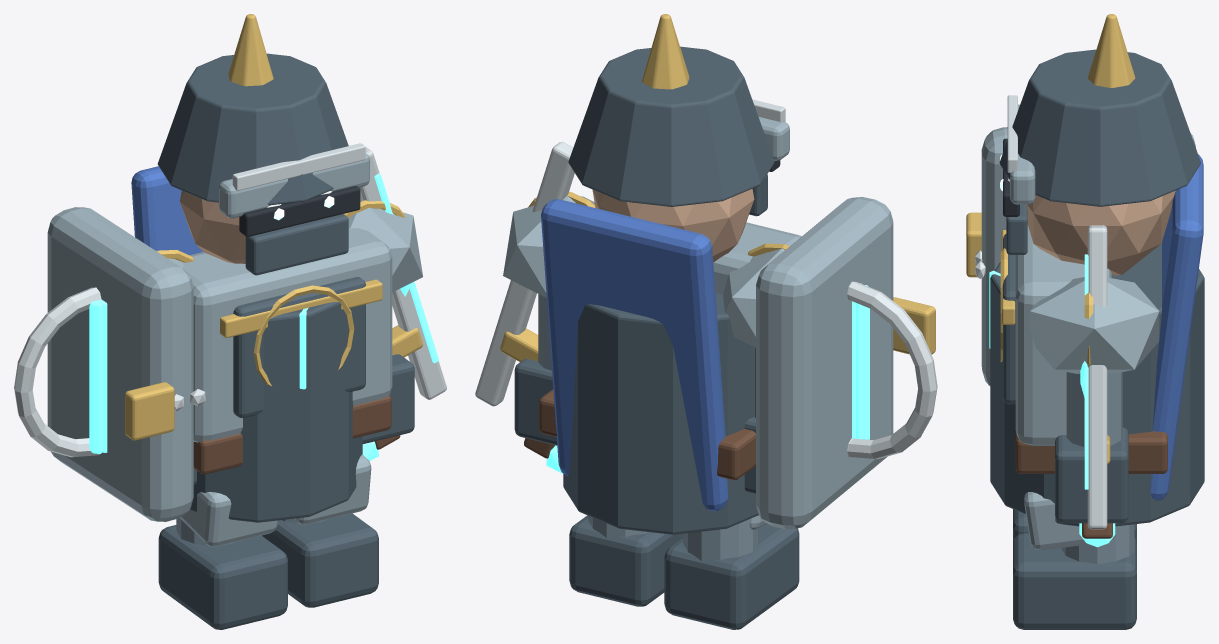
Rendered from ironclad.glb.
The picture shows the model from 3 angles, left to right: view 1: azimuth 30°, elevation 25°; view 2: azimuth 150°, elevation 25°; view 3: azimuth 270°, elevation 25°; orthographic projection. The views are drawn at different scales.
Visible parts, largest first — view 1: ShieldCore, Torso, Helmet, Breastplate, Boot_-0.19, Boot_0.19, ChestInset, ShieldRim, JawGuard, Cape, Pauldron_1, Belt (+17 smaller); view 2: ShieldCore, Torso, Cape, Helmet, Boot_-0.19, Boot_0.19, ShieldRim, SwordBlade, Head, Pauldron_1, Pauldron_-1, Gauntlet_1 (+10 smaller); view 3: Helmet, Torso, Boot_0.19, Pauldron_1, Cape, Breastplate, Head, SwordBlade, Gauntlet_1, ShieldCore, Belt, Arm_1 (+14 smaller).
Part boxes in pixels (bbox=[...]): ShieldCore: bbox=[47, 207, 193, 521]; Torso: bbox=[190, 302, 362, 522]; Helmet: bbox=[157, 53, 348, 205]; Breastplate: bbox=[183, 228, 392, 442]; Boot_-0.19: bbox=[158, 525, 287, 629]; Boot_0.19: bbox=[262, 513, 378, 607]; ChestInset: bbox=[233, 277, 365, 417]; ShieldRim: bbox=[14, 287, 101, 457]; JawGuard: bbox=[245, 214, 348, 275]; Cape: bbox=[131, 166, 203, 255]; Pauldron_1: bbox=[348, 200, 422, 292]; Belt: bbox=[193, 395, 391, 474]; ShieldCore: bbox=[756, 197, 893, 529]; Torso: bbox=[563, 293, 758, 534]; Cape: bbox=[541, 199, 728, 511]; Helmet: bbox=[568, 46, 774, 206]; Boot_-0.19: bbox=[664, 523, 799, 629]; Boot_0.19: bbox=[569, 515, 682, 606]; ShieldRim: bbox=[847, 281, 937, 458]; SwordBlade: bbox=[475, 141, 574, 406]; Head: bbox=[592, 188, 754, 262]; Pauldron_1: bbox=[503, 196, 594, 297]; Pauldron_-1: bbox=[723, 248, 784, 347]; Gauntlet_1: bbox=[514, 359, 557, 445]; Helmet: bbox=[999, 49, 1200, 206]; Torso: bbox=[990, 242, 1204, 526]; Boot_0.19: bbox=[1013, 533, 1136, 629]; Pauldron_1: bbox=[1030, 277, 1159, 373]; Cape: bbox=[1150, 154, 1203, 500]; Breastplate: bbox=[1015, 225, 1111, 445]; Head: bbox=[1026, 190, 1175, 275]; SwordBlade: bbox=[1087, 225, 1107, 529]; Gauntlet_1: bbox=[1055, 427, 1128, 523]; ShieldCore: bbox=[981, 127, 1195, 385]; Belt: bbox=[1015, 431, 1167, 473]; Arm_1: bbox=[1066, 372, 1122, 447].
Bounding box in the file's own units: 1.81 × 2.25 × 0.845.
